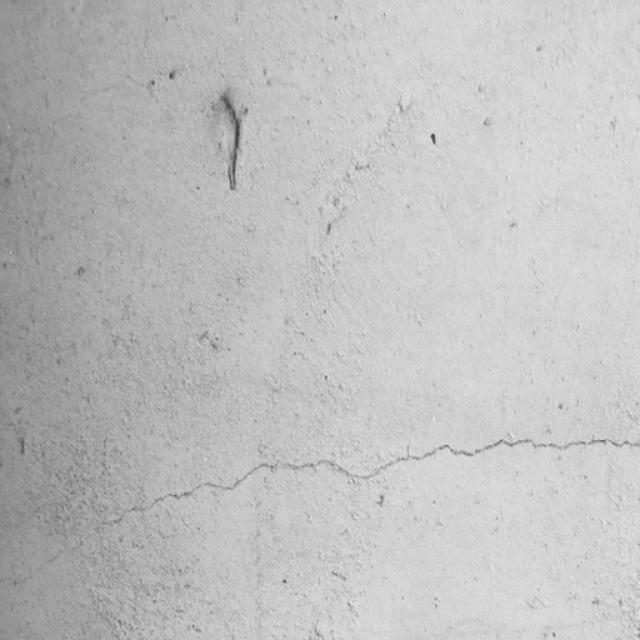SurfaceCrack: (2, 394, 640, 544)
